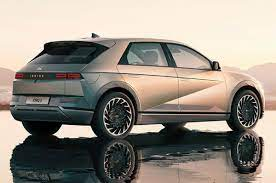Honda Ioniq: (6, 29, 268, 155)
